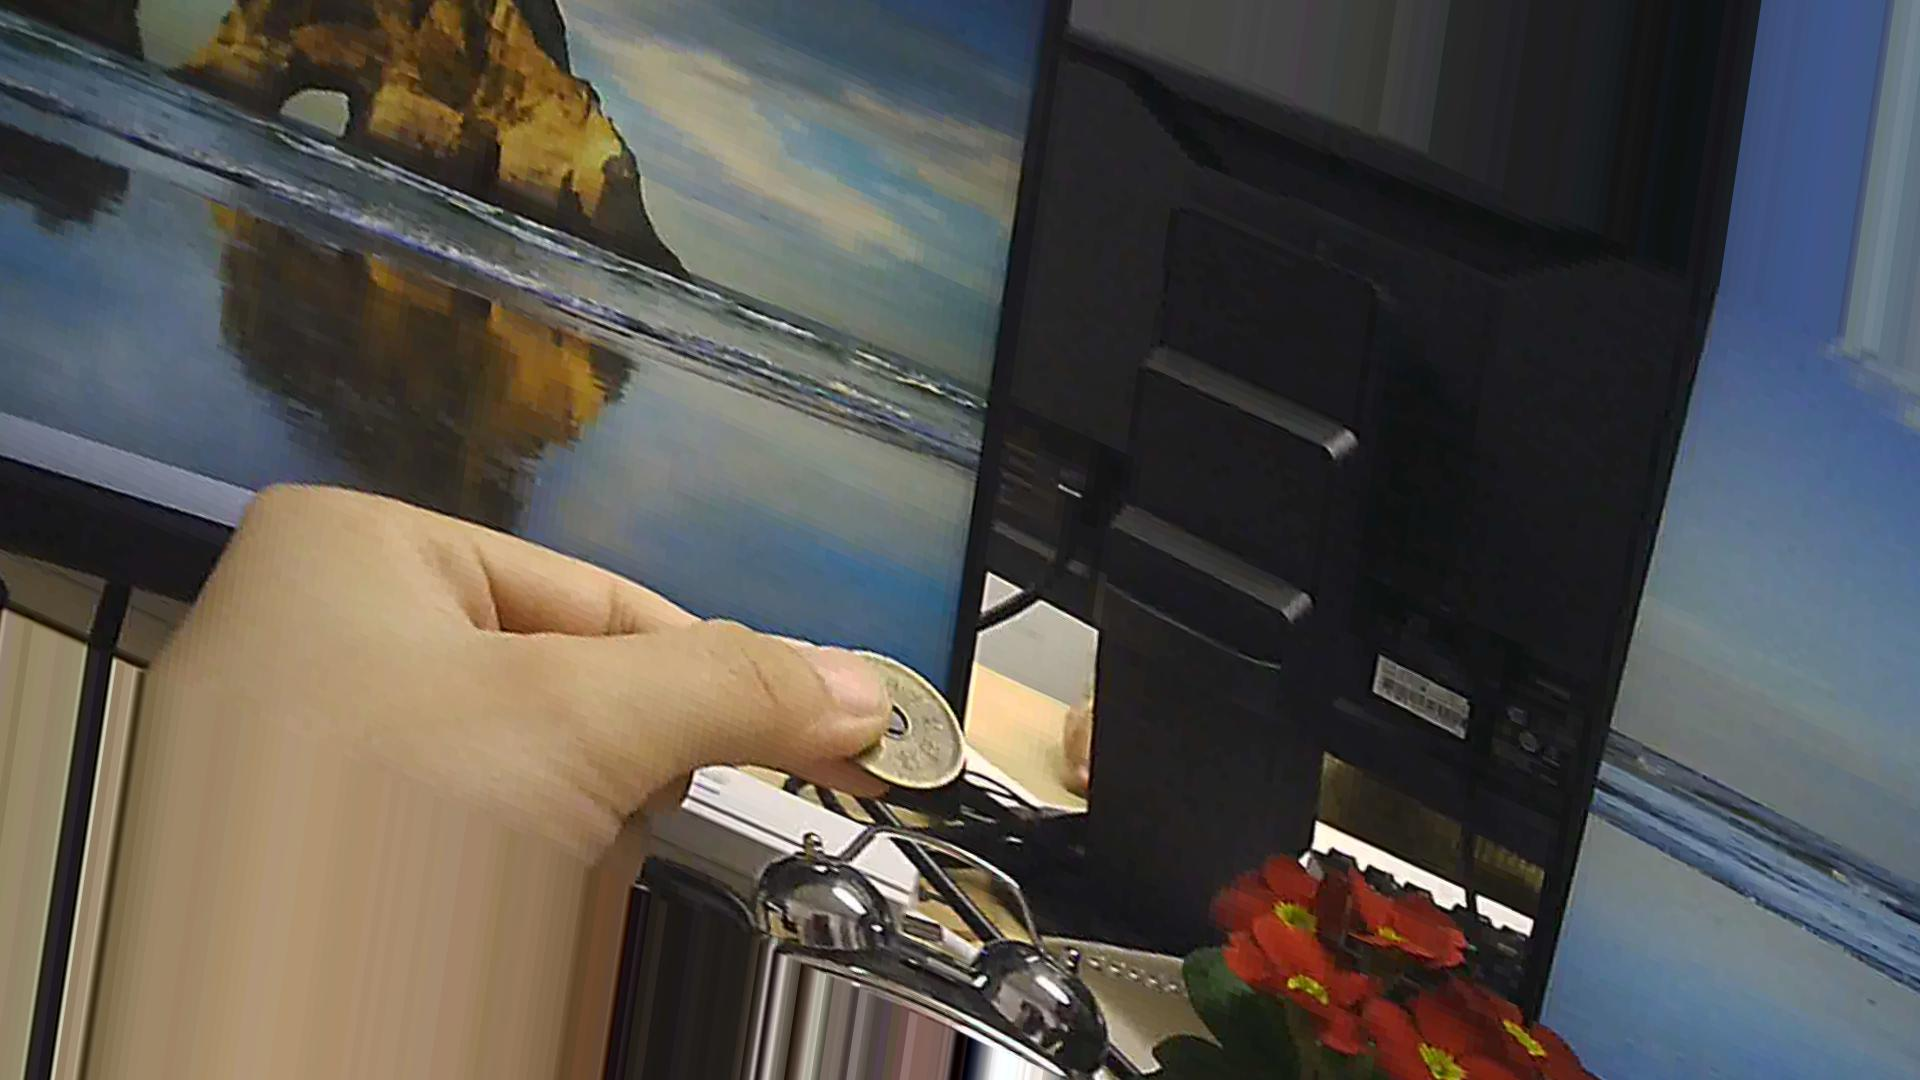5 Yen: (820, 644, 984, 799)
